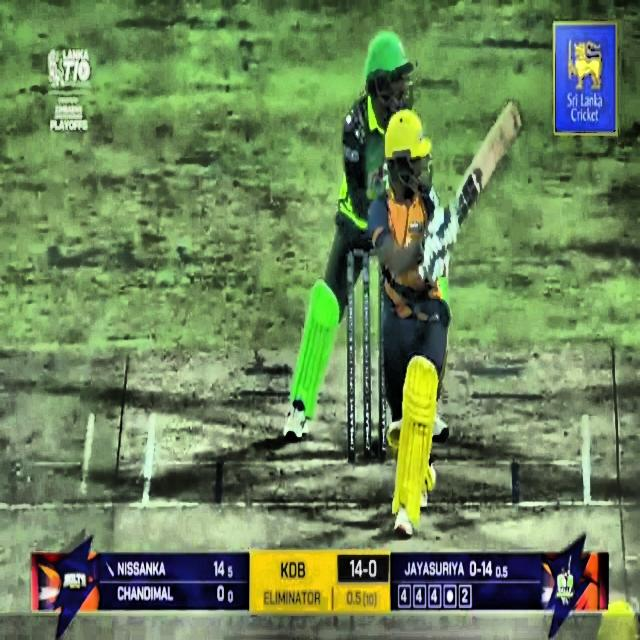Left-stump: (346, 252, 354, 462)
Middle-stump: (363, 253, 372, 460)
Right-stump: (378, 264, 386, 461)
stumps: (347, 252, 386, 463)
